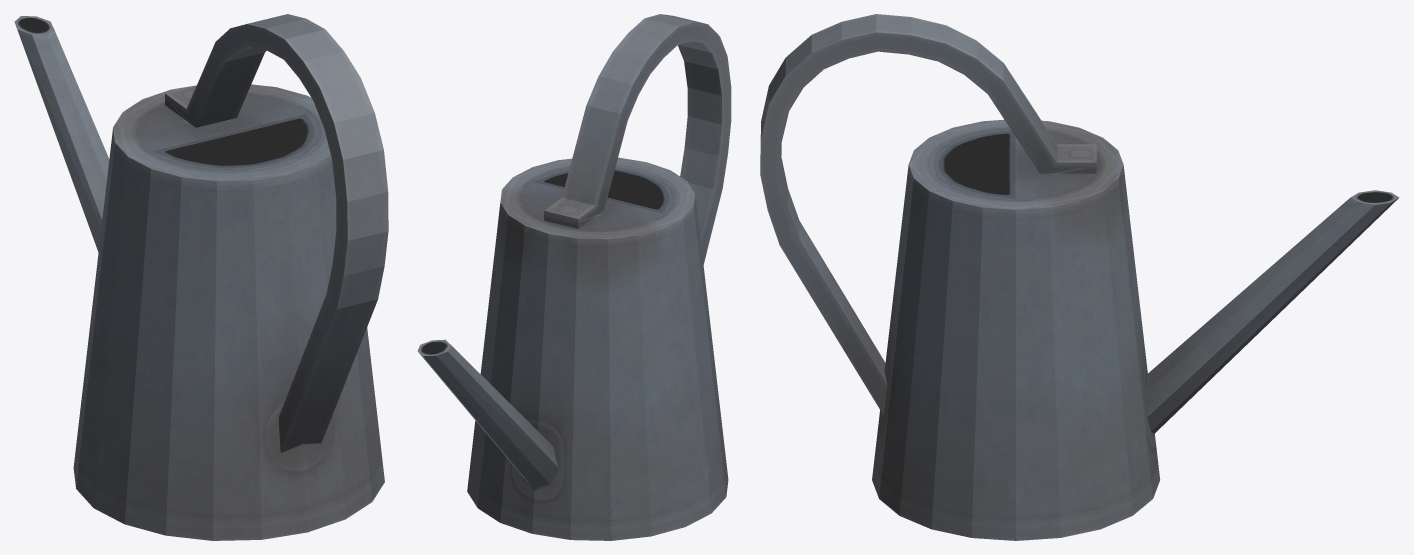
The model's file is P_Kettle_005_S1_M02.obj.
The picture shows the model from 3 angles, left to right: view 1: azimuth 30°, elevation 25°; view 2: azimuth 150°, elevation 25°; view 3: azimuth 270°, elevation 25°; orthographic projection. The views are drawn at different scales.
Size of the model in its own units: 0.3976 by 0.6953 by 0.8815.
1 material, 1 textured.
